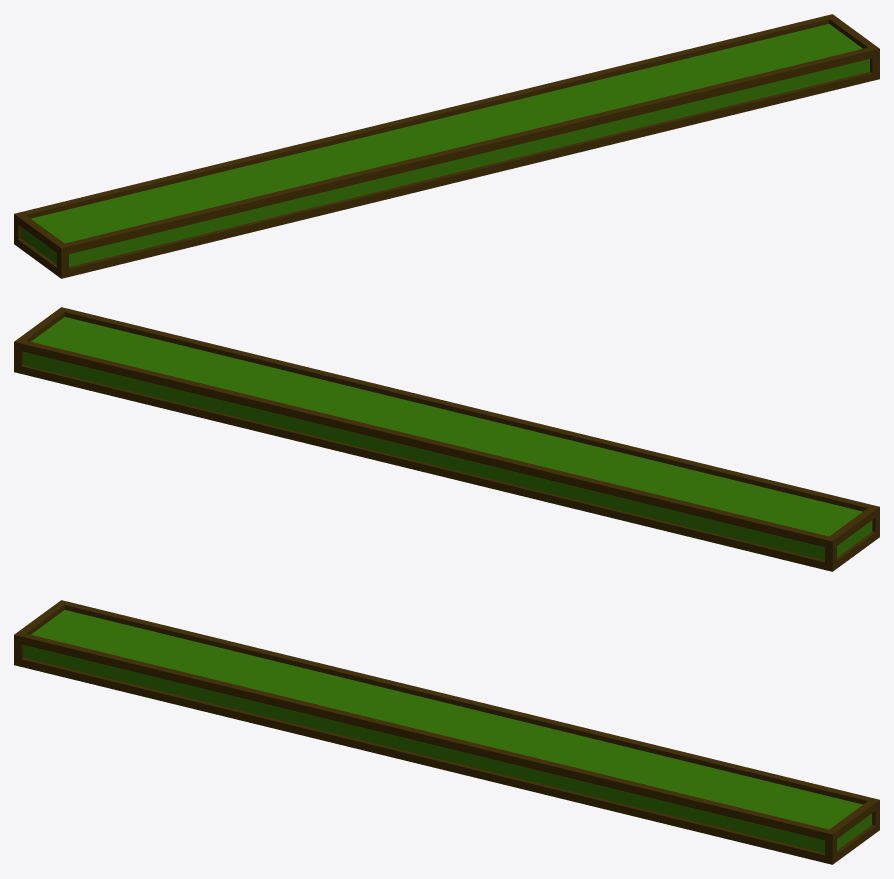
File: LongTable.fbx
3 views of the same model, one above another, from view 1: azimuth 30°, elevation 25°; view 2: azimuth 150°, elevation 25°; view 3: azimuth 330°, elevation 25° (orthographic).
Visible parts, largest first — view 1: Long table; view 2: Long table; view 3: Long table.
Boxes of the visible parts, bbox=[...] form: Long table: bbox=[14, 14, 879, 278]; Long table: bbox=[14, 307, 879, 571]; Long table: bbox=[14, 600, 879, 864].
Bounding box in the file's own units: 1994 × 70.69 × 200.
